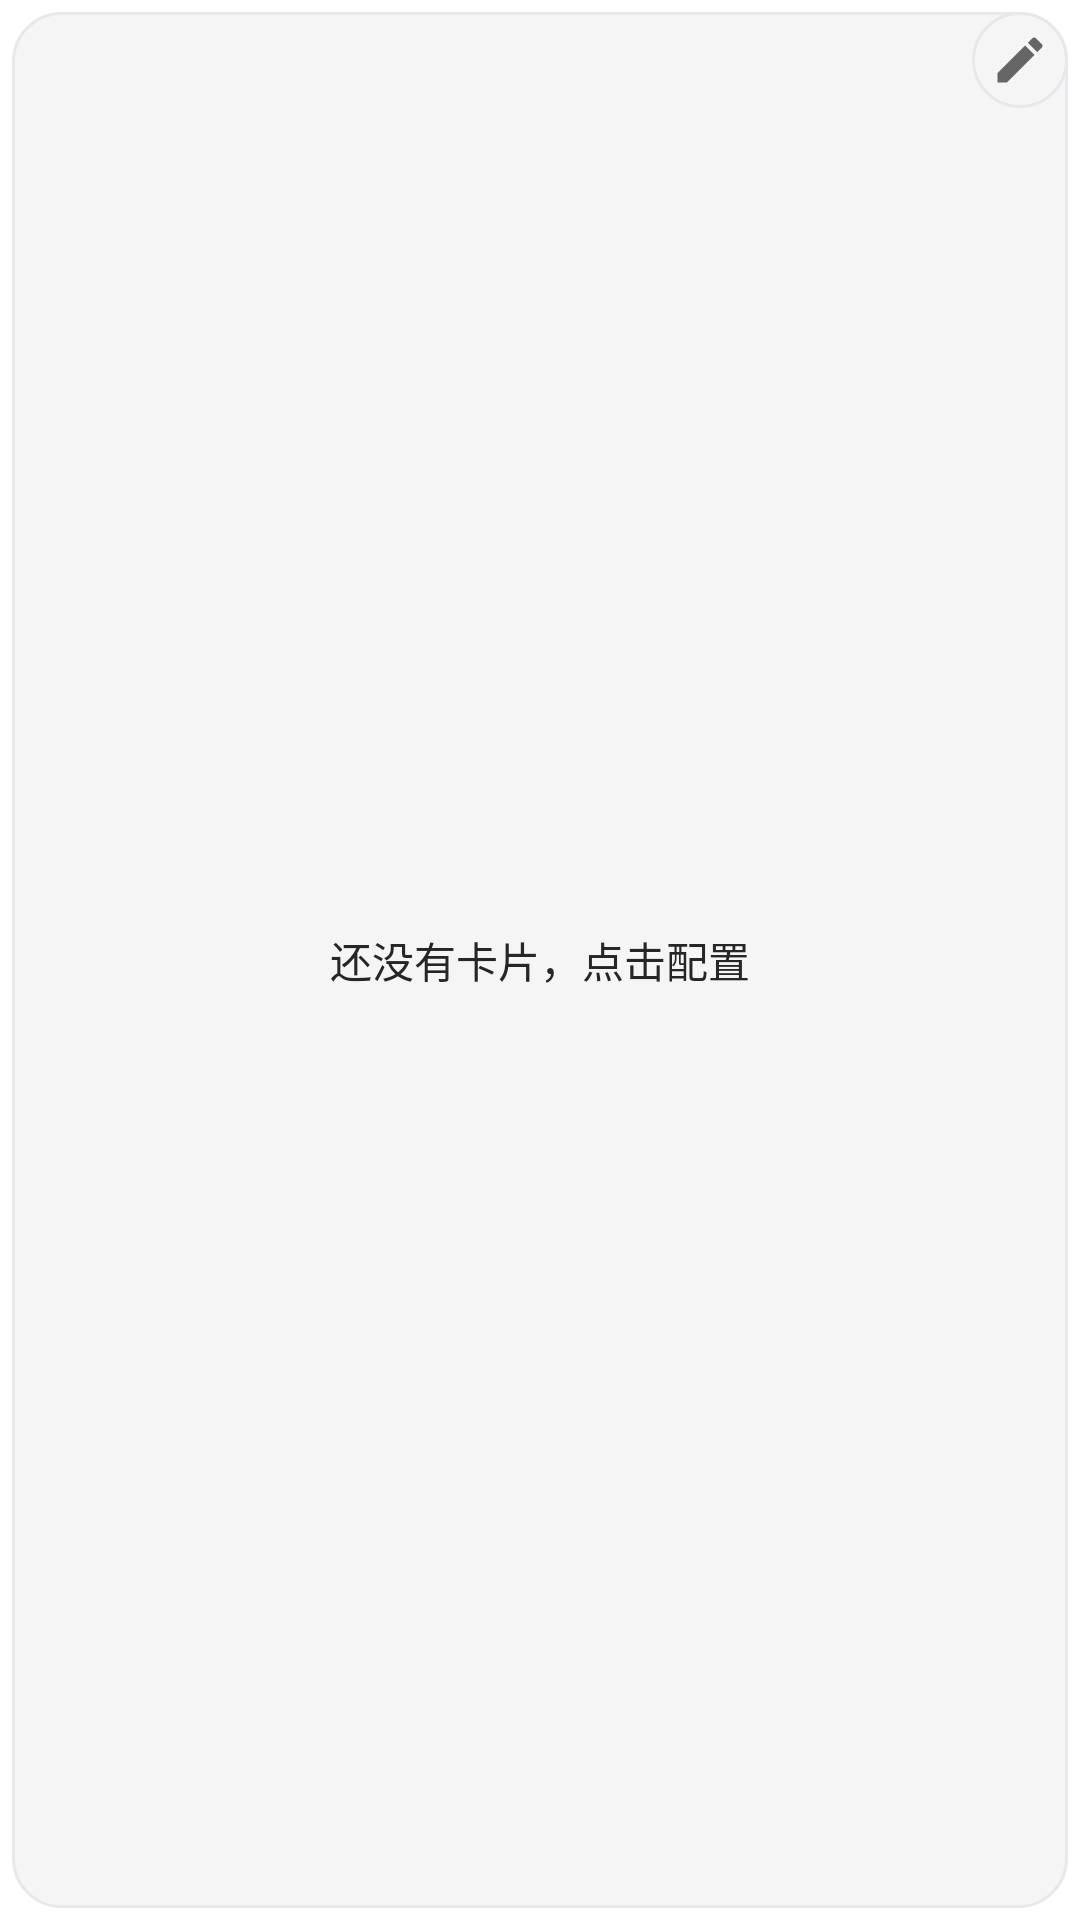

Icons on this 1080 × 1920 Android screen, each with its box as detection(x1, y1, x2, y2):
配置卡片: detection(997, 37, 1043, 83)
